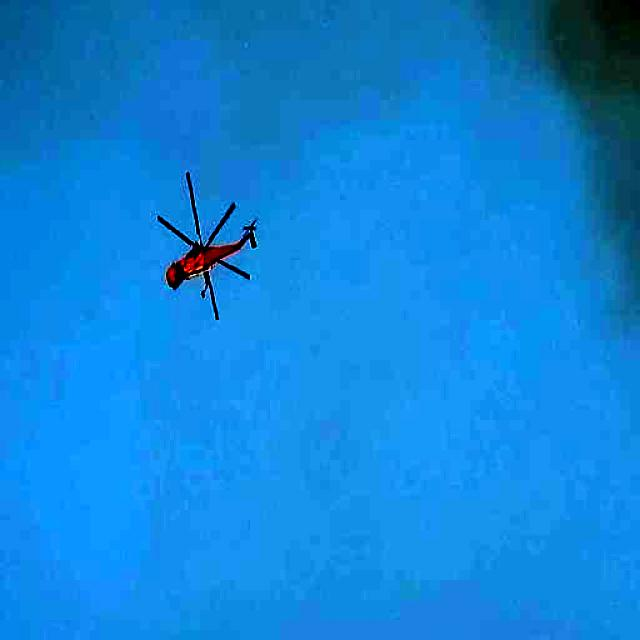drone: (136, 160, 265, 331)
